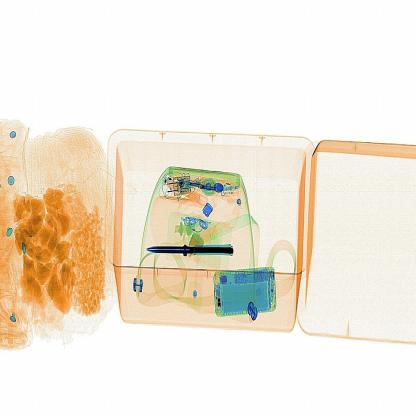gun: (134, 237, 242, 263)
